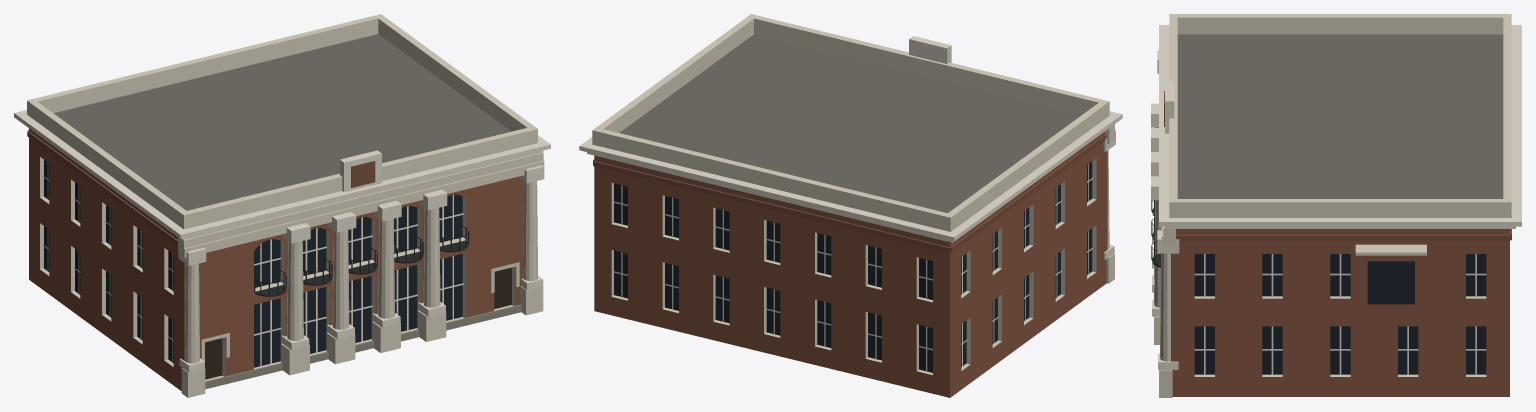
The model's file is central-fire-station-1913.glb.
3 views of the same model, side by side, from view 1: azimuth 30°, elevation 25°; view 2: azimuth 150°, elevation 25°; view 3: azimuth 270°, elevation 25° (orthographic). The views are drawn at different scales.
Visible parts, largest first — view 1: central_stone, central_roof, central_brick, central_glass, central_trim, central_sash, central_iron, central_granite, central_brick2, central_door; view 2: central_brick, central_roof, central_stone, central_glass, central_trim, central_brick2, central_sash; view 3: central_roof, central_brick, central_stone, central_glass, central_trim, central_brick2, central_sash.
Boxes of the visible parts, bbox=[...] form: central_stone: bbox=[27, 14, 544, 397]; central_roof: bbox=[53, 34, 510, 210]; central_brick: bbox=[29, 128, 523, 390]; central_glass: bbox=[44, 160, 462, 367]; central_trim: bbox=[14, 110, 550, 372]; central_sash: bbox=[43, 162, 463, 366]; central_iron: bbox=[254, 225, 469, 296]; central_granite: bbox=[205, 304, 521, 389]; central_brick2: bbox=[27, 130, 375, 246]; central_door: bbox=[205, 267, 511, 379]; central_brick: bbox=[594, 131, 1107, 397]; central_roof: bbox=[619, 34, 1082, 212]; central_stone: bbox=[592, 14, 1115, 374]; central_glass: bbox=[614, 161, 1092, 372]; central_trim: bbox=[579, 36, 1122, 259]; central_brick2: bbox=[593, 134, 1106, 252]; central_sash: bbox=[613, 164, 1092, 371]; central_roof: bbox=[1177, 34, 1503, 198]; central_brick: bbox=[1171, 229, 1509, 396]; central_stone: bbox=[1154, 14, 1511, 397]; central_glass: bbox=[1194, 254, 1486, 374]; central_trim: bbox=[1151, 25, 1521, 369]; central_brick2: bbox=[1164, 91, 1511, 240]; central_sash: bbox=[1194, 254, 1486, 374].
Size of the model in its own units: 27.9 by 13.8 by 21.86.
